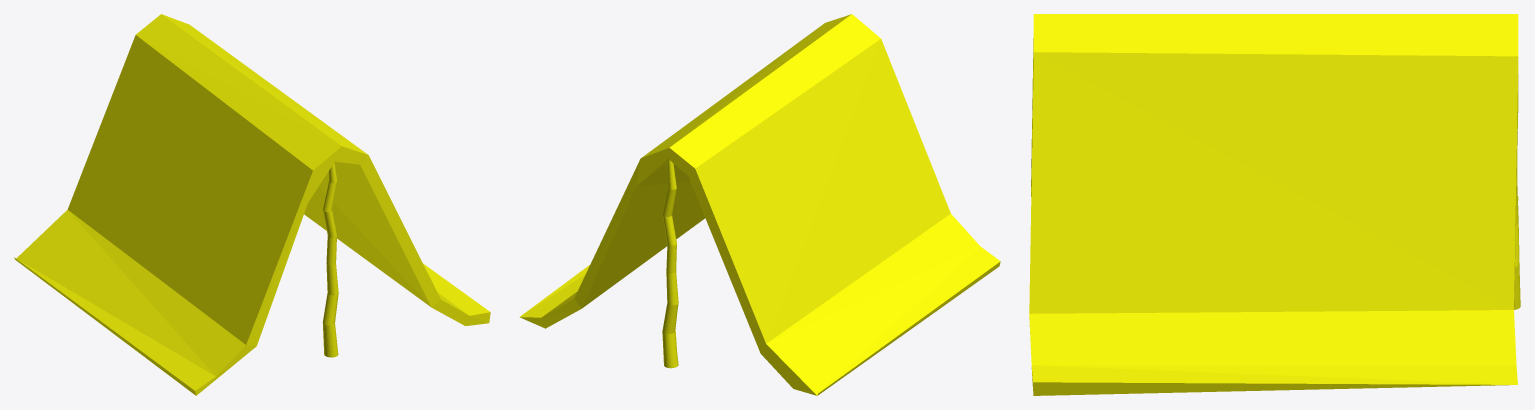
Rendered from tent_red.glb.
3 views of the same model, side by side, from view 1: azimuth 30°, elevation 25°; view 2: azimuth 150°, elevation 25°; view 3: azimuth 270°, elevation 25° (orthographic). The views are drawn at different scales.
Visible parts, largest first — view 1: tent_red; view 2: tent_red; view 3: tent_red.
Boxes of the visible parts, <box> form: tent_red: <box>14,14,490,395</box>; tent_red: <box>519,14,1000,395</box>; tent_red: <box>1029,14,1520,395</box>.
Bounding box in the file's own units: 6.47 × 4.54 × 6.94.
Materials: 1 (1 with a texture image).
